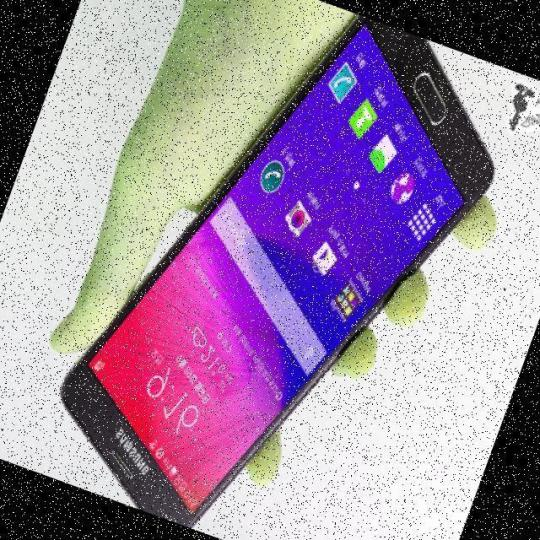phone: (61, 15, 496, 539)
